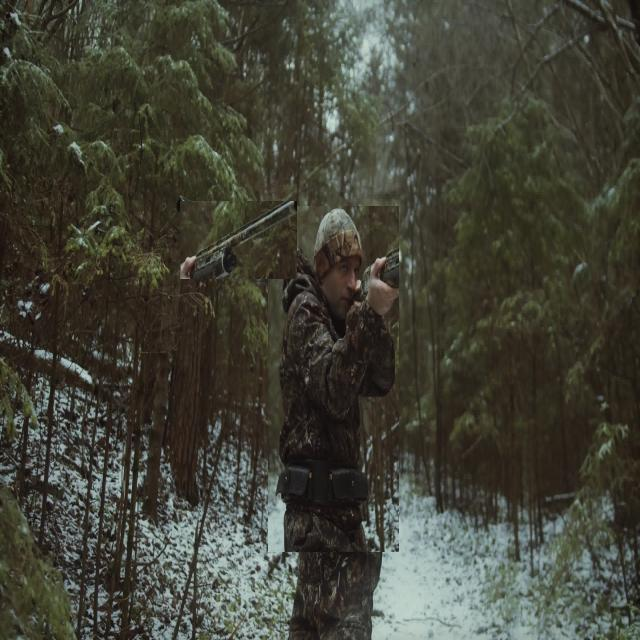poacher: (268, 207, 399, 552)
weapon: (180, 202, 297, 280)
